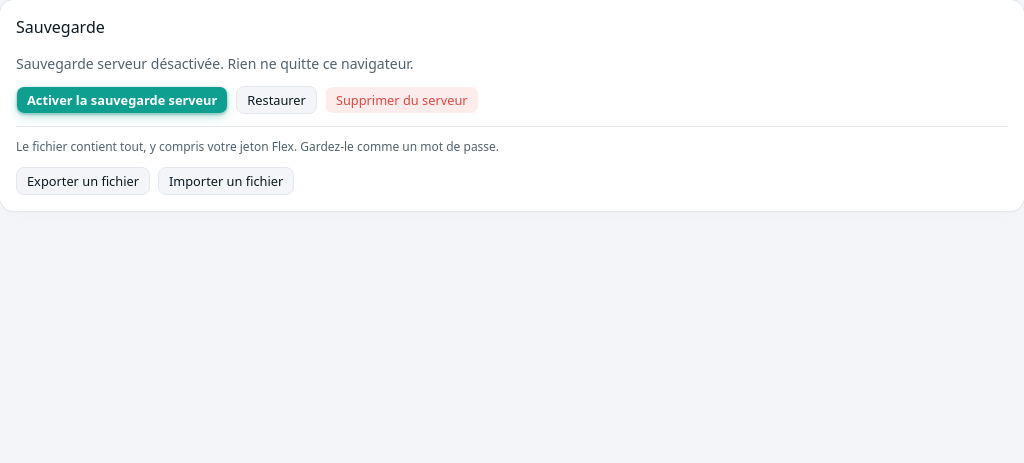
Test: BackupCard › demande la phrase deux fois à l'activation, et n'écrit rien avant
Click the button "Activer la sauvegarde serveur".
click(122, 100)  # box [16, 86, 228, 114]
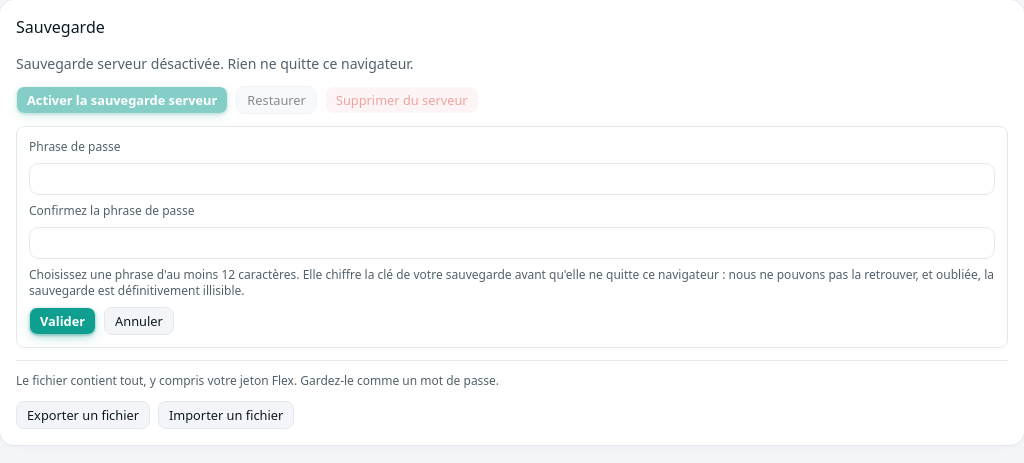
Expected: the password field labelled "Confirmez la phrase de passe" is shown, [29, 227, 995, 259]
Expected: the password field labelled "Phrase de passe" is shown, [29, 163, 995, 195]
